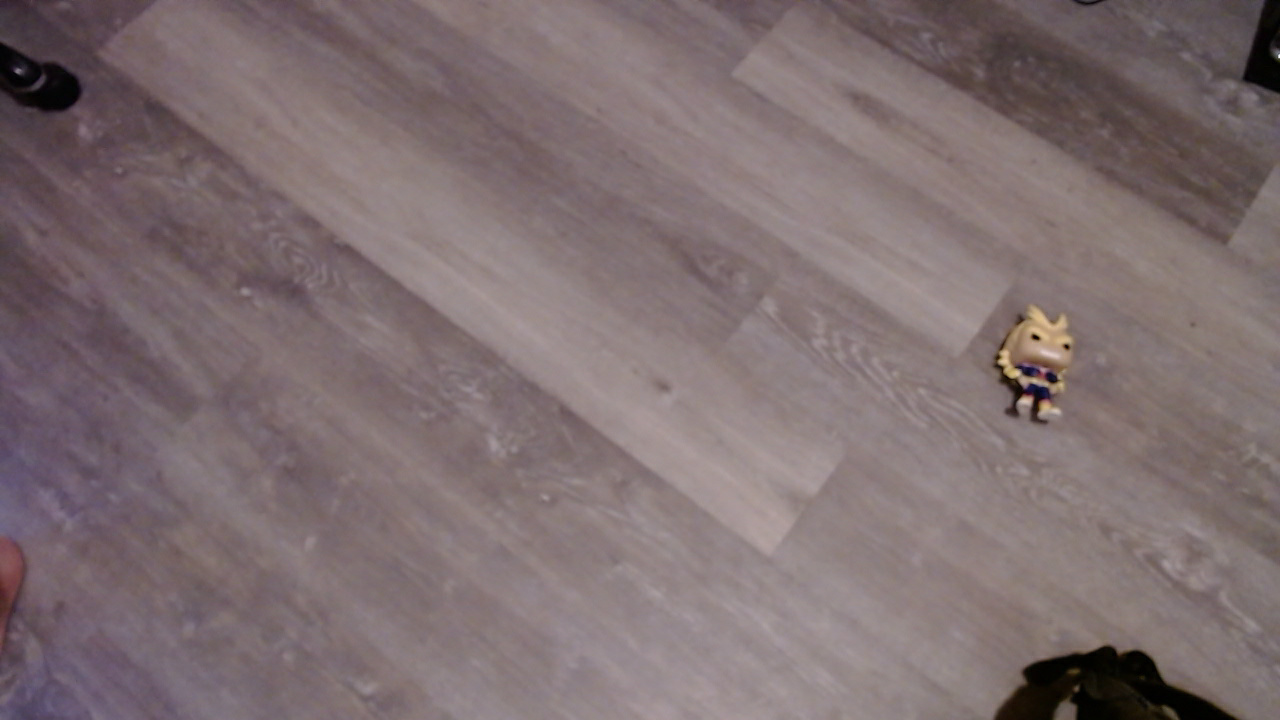all_might: (999, 306, 1089, 440)
